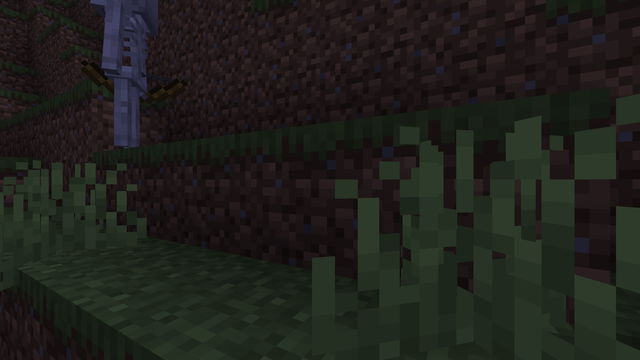squelettes: (84, 2, 167, 150)
